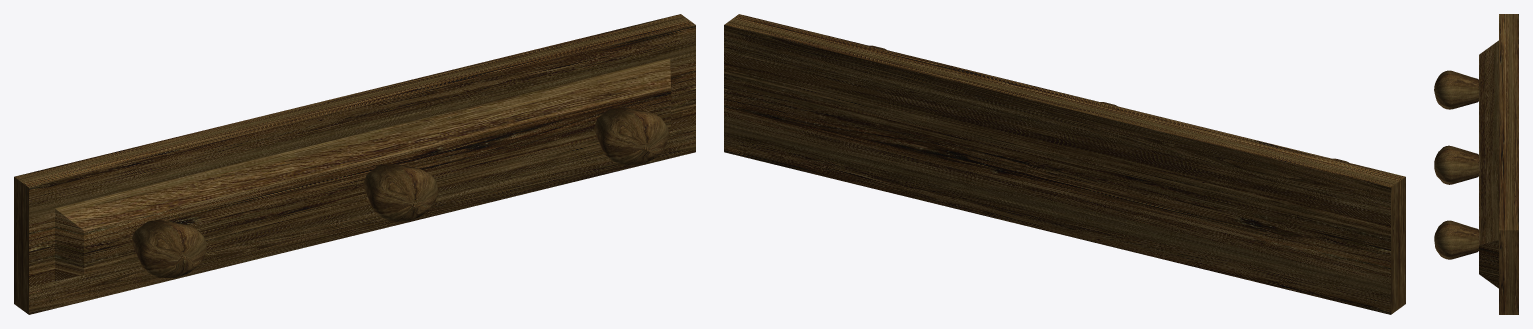
File: Hanger.FBX
The picture shows the model from 3 angles, left to right: view 1: azimuth 30°, elevation 25°; view 2: azimuth 150°, elevation 25°; view 3: azimuth 270°, elevation 25°; orthographic projection. The views are drawn at different scales.
Visible parts, largest first — view 1: hanger; view 2: hanger; view 3: hanger.
Part boxes in pixels (x1,y1,x2,y2): hanger: [14, 14, 695, 314]; hanger: [724, 14, 1405, 314]; hanger: [1434, 14, 1518, 314].
Size of the model in its own units: 59.18 by 10.79 by 9.81.
Materials: 1 (1 with a texture image).
